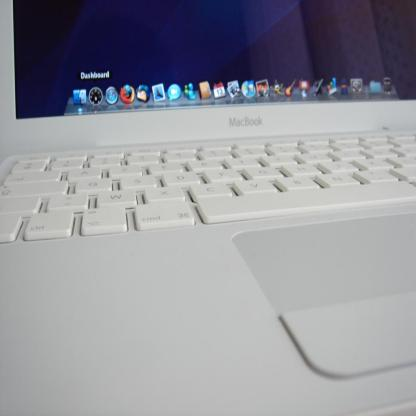board: (1, 5, 403, 382)
